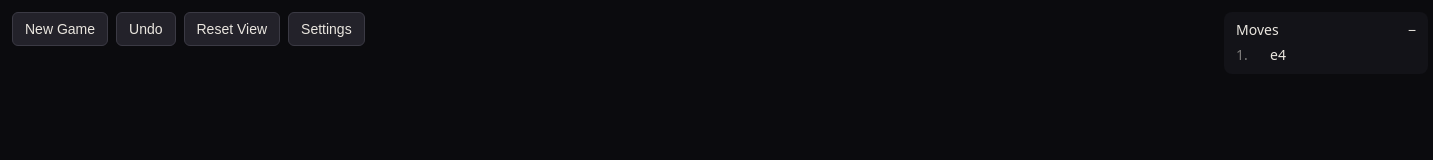
Test: move list toggle collapses and expands the SAN rows
Expected: the text "e4" is shown, [1270,45,1286,64]
Click the button "Moves −" at point(1326, 32), box [1236,20,1416,43]
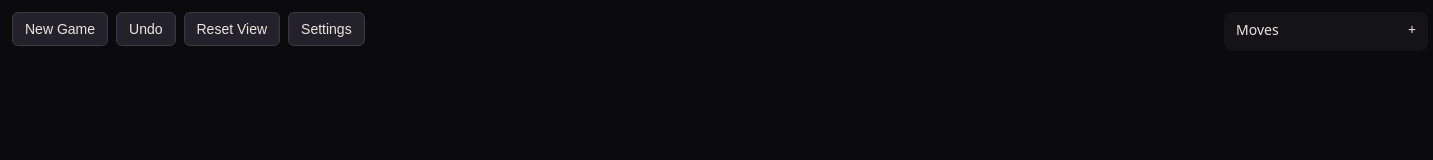
Expected: the button "Moves +" is collapsed
Expected: the text "e4" is gone
Click the button "Moves +" at point(1326, 32), box [1236,20,1416,43]
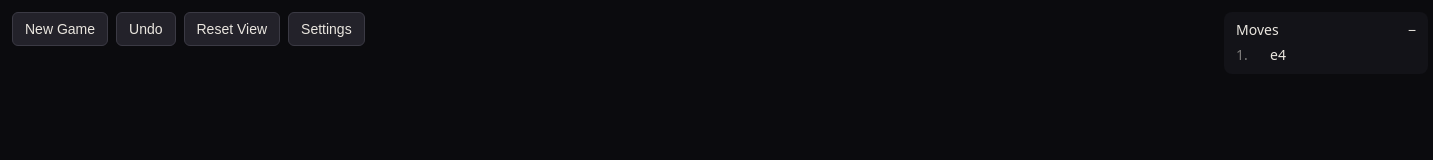
Expected: the button "Moves −" is expanded, [1236,20,1416,43]
Expected: the text "e4" is shown, [1270,45,1286,64]
